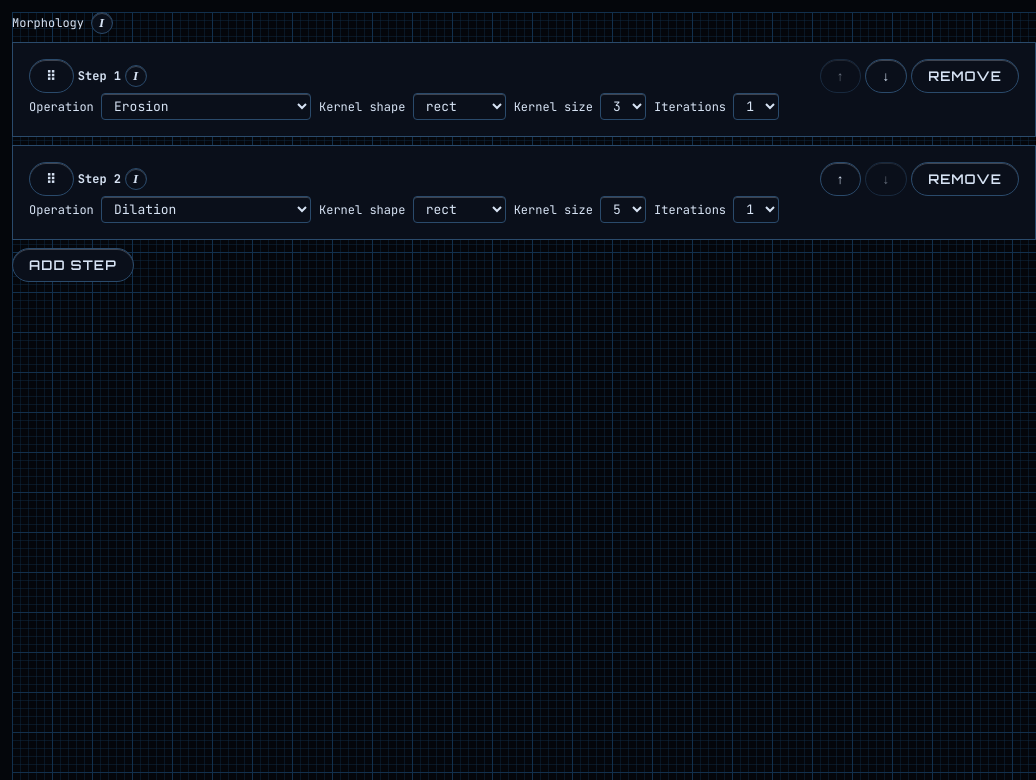
it: MorphologyControl stack › Remove drops that card; removing the last one is Off
Click the button with aria-label "Remove step 1": (965, 76) x1=911 y1=59 x2=1019 y2=93
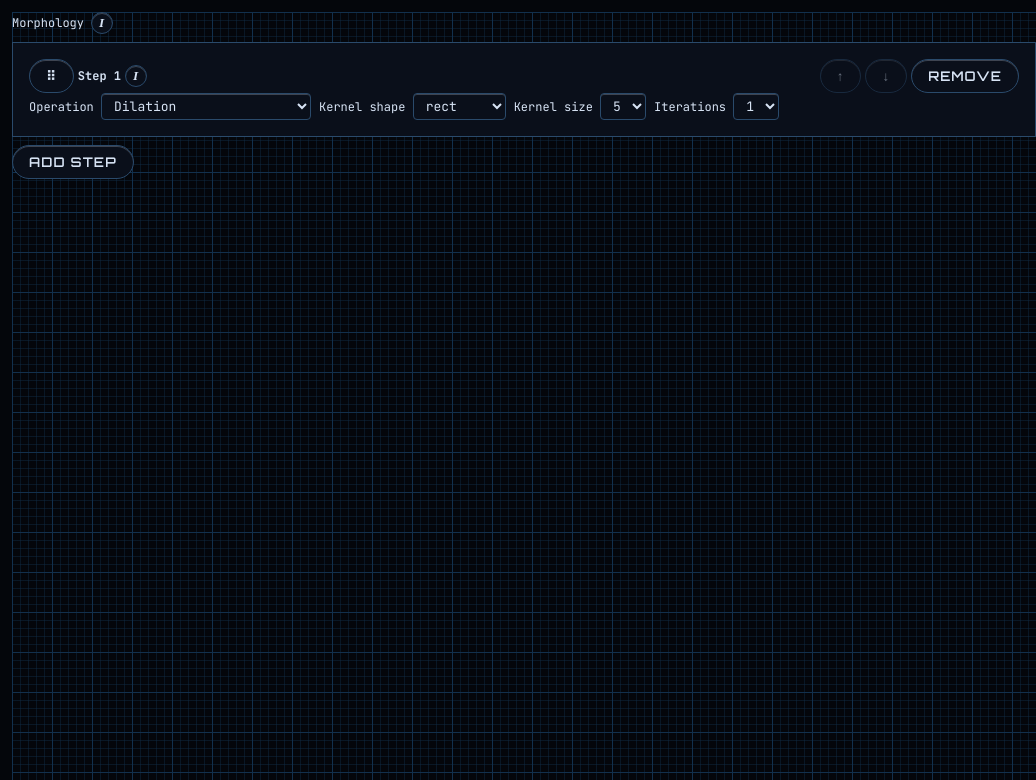
Click the button with aria-label "Remove step 1": (965, 76) x1=911 y1=59 x2=1019 y2=93
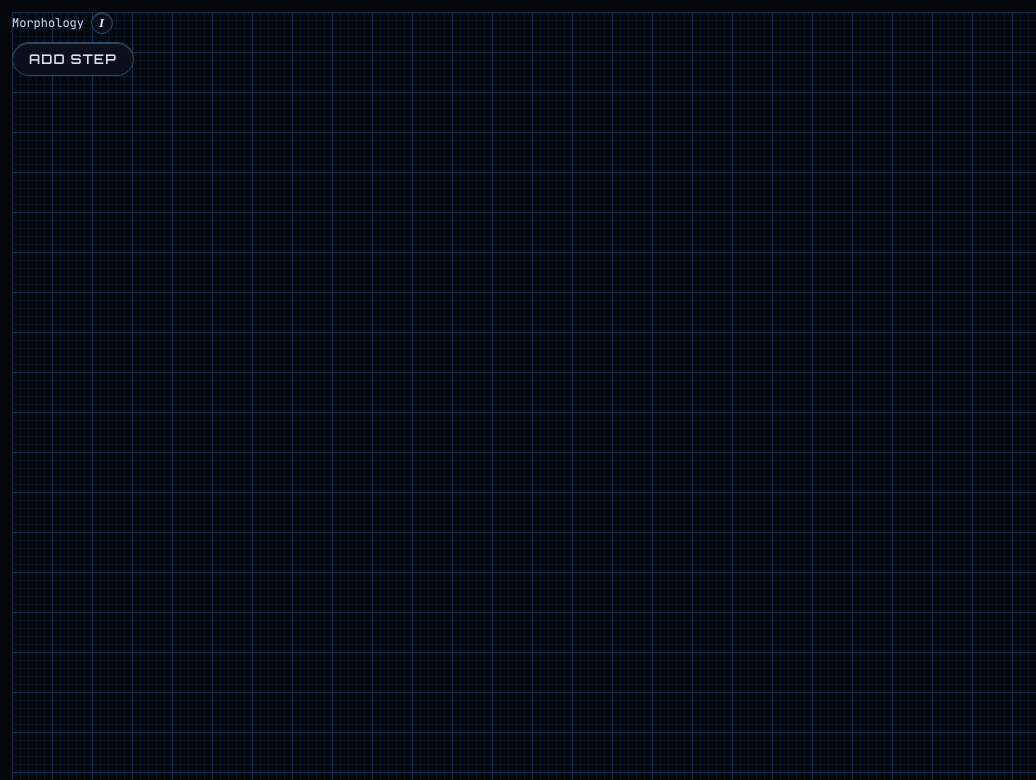
Check: no list items are shown
